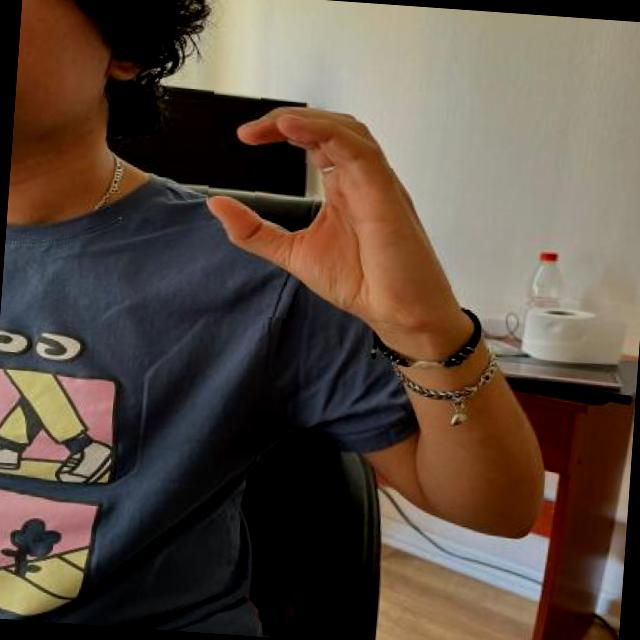C: (198, 87, 464, 329)
